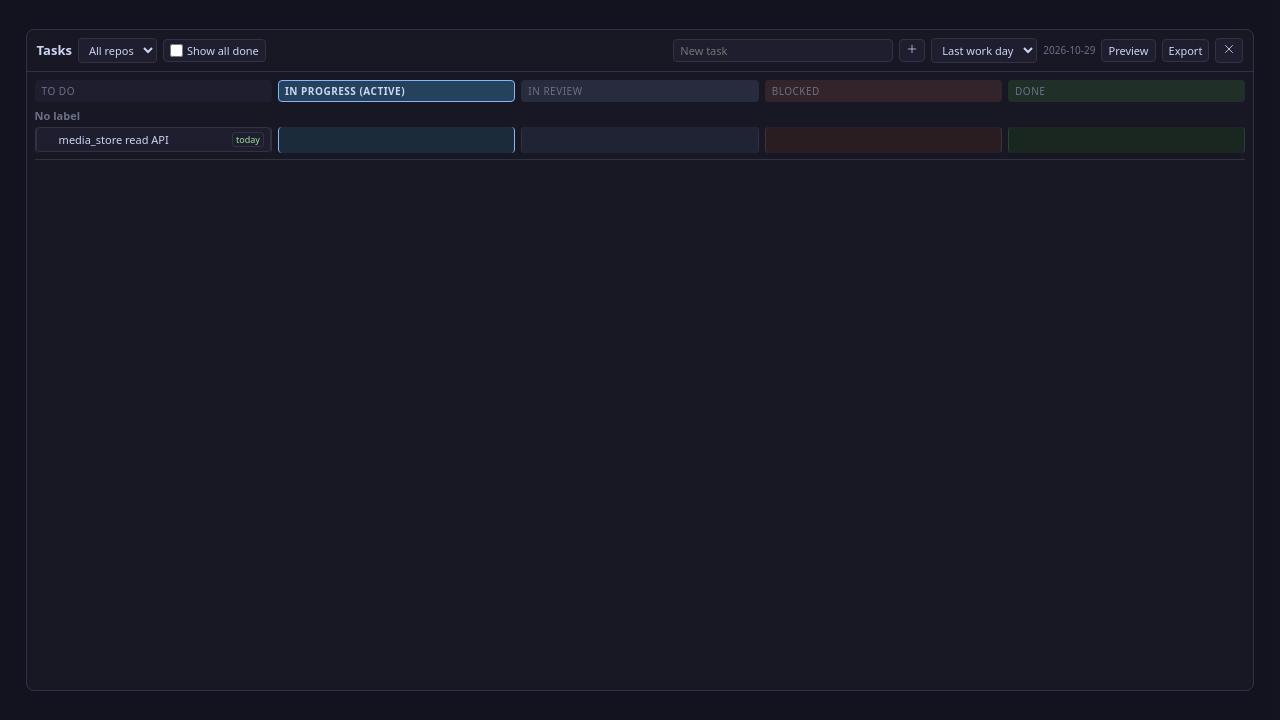
it: clickable links in the activity log › keeps a trailing period out of the href
Check: the text "media_store read API" is shown, box [59,132,169,147]
Click the button "media_store read API today": click(153, 139) [36,127,271,152]
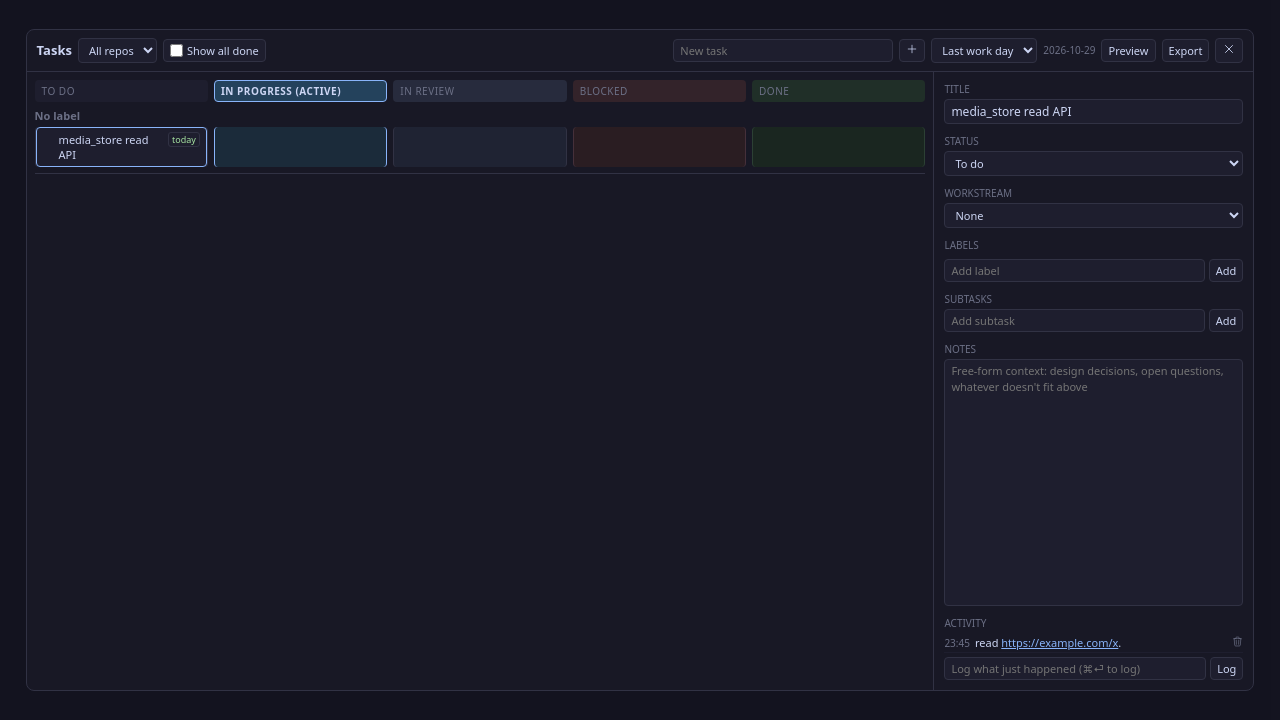
Check: the element with test id "^event-text-" reads "read https://example.com/x .", box [975,635,1121,650]
